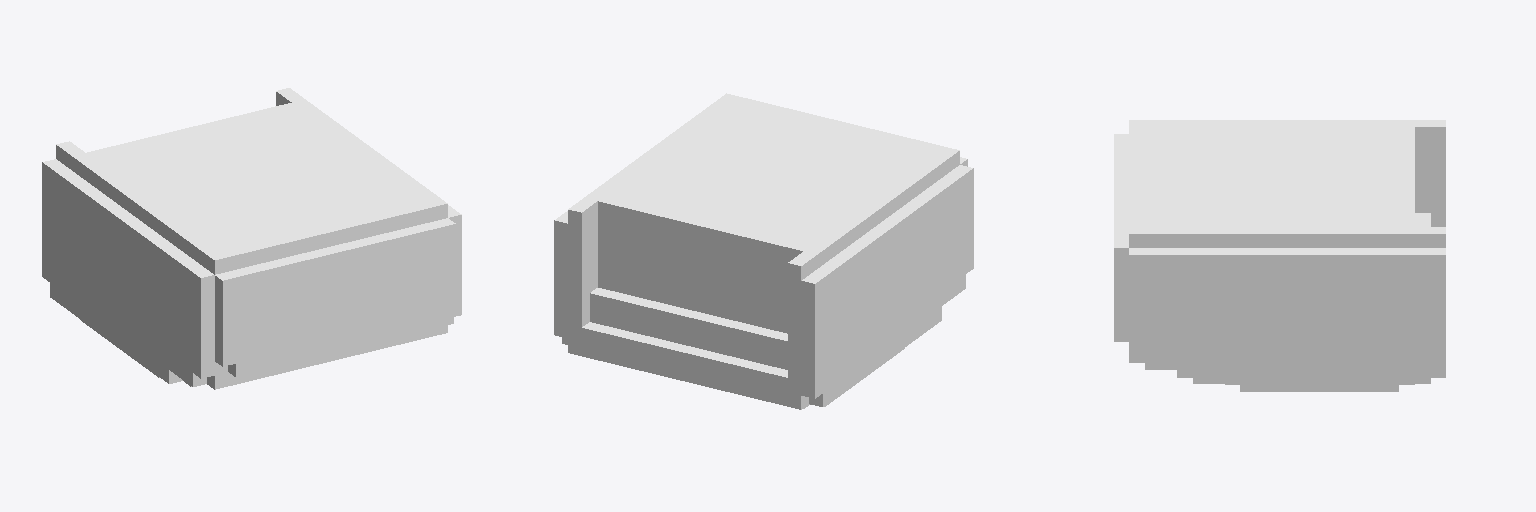
Rendered from Bateria.obj.
3 renders of one model, left to right at view 1: azimuth 30°, elevation 25°; view 2: azimuth 150°, elevation 25°; view 3: azimuth 270°, elevation 25°, orthographic.
Visible parts, largest first — view 1: object 1; view 2: object 1; view 3: object 1.
Boxes of the visible parts, x1=… form: object 1: x1=42, y1=88, x2=461, y2=389; object 1: x1=554, y1=93, x2=973, y2=409; object 1: x1=1114, y1=120, x2=1445, y2=391.
Size of the model in its own units: 1.9 by 1.1 by 2.1.